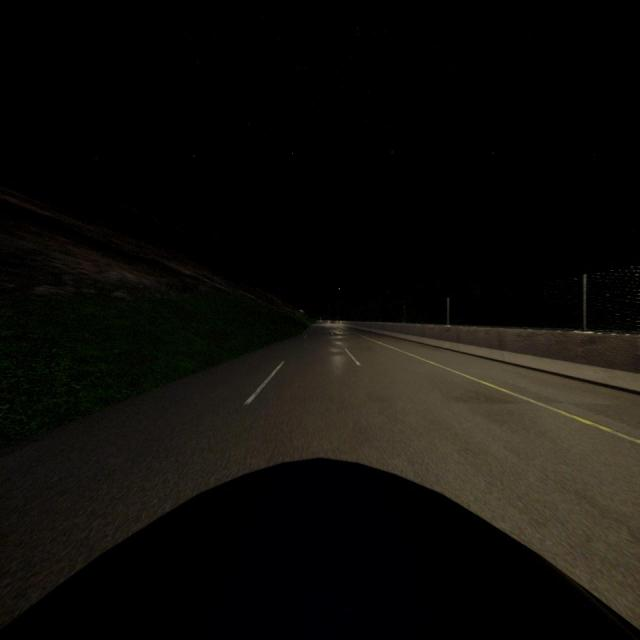Vehicle: (0, 453, 640, 640)
